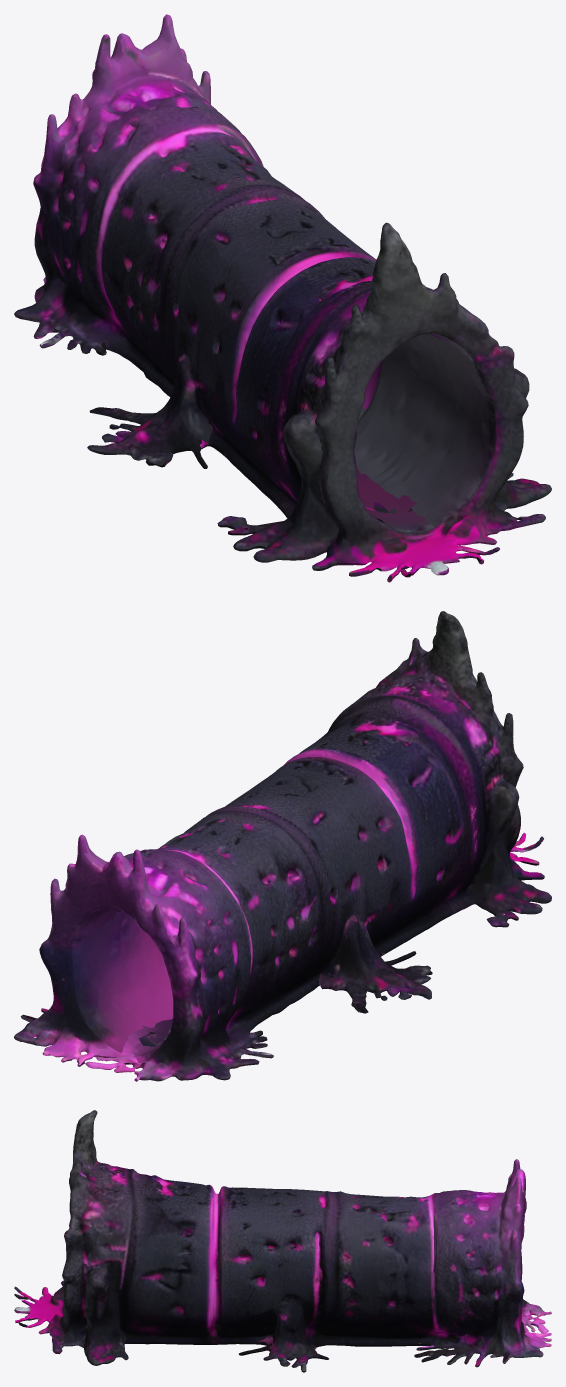
Rendered from tunnel-root-2-generated-2026-05-17T19-22-25-401Z.high.glb.
3 renders of one model, top to bottom at view 1: azimuth 30°, elevation 25°; view 2: azimuth 150°, elevation 25°; view 3: azimuth 270°, elevation 25°, orthographic. The views are drawn at different scales.
Parts seen in each view (by area): view 1: temp_mesh.ply; view 2: temp_mesh.ply; view 3: temp_mesh.ply.
Part boxes in pixels (x1,y1,x2,y2): temp_mesh.ply: [14, 14, 551, 582]; temp_mesh.ply: [14, 611, 551, 1081]; temp_mesh.ply: [14, 1110, 551, 1372].
Size of the model in its own units: 0.9304 by 0.8313 by 1.97.
Materials: 1 (1 with a texture image).
